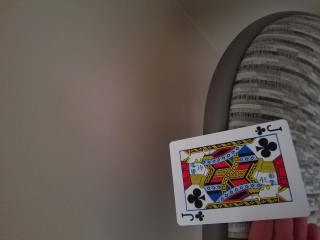JackOfClubs: (168, 118, 311, 226)
